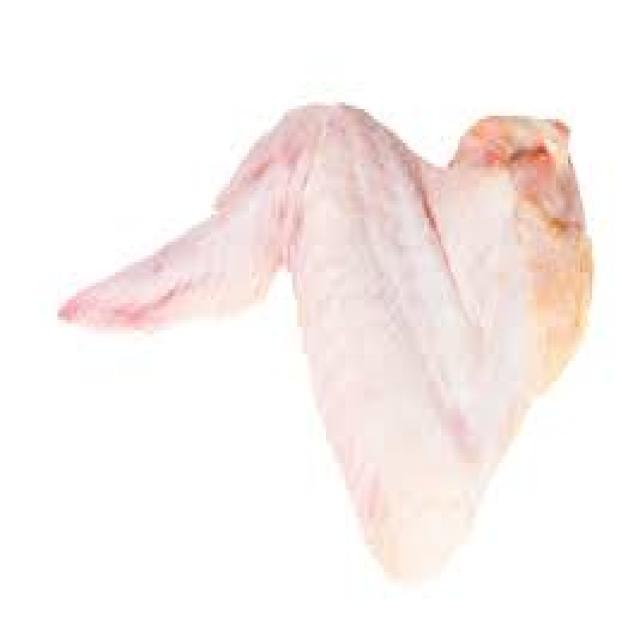wing: (67, 99, 590, 581)
